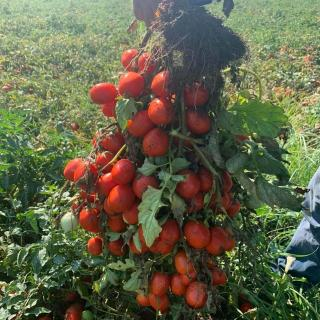Tomat: (148, 98, 176, 128), (185, 220, 212, 250), (119, 72, 146, 99), (111, 159, 136, 186), (91, 83, 119, 106), (88, 238, 104, 257)
